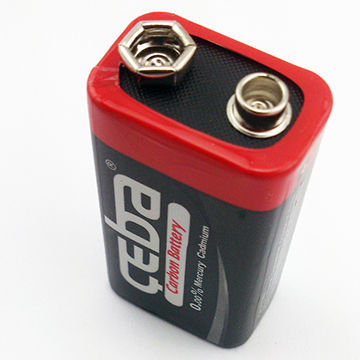9V: (79, 9, 333, 348)
